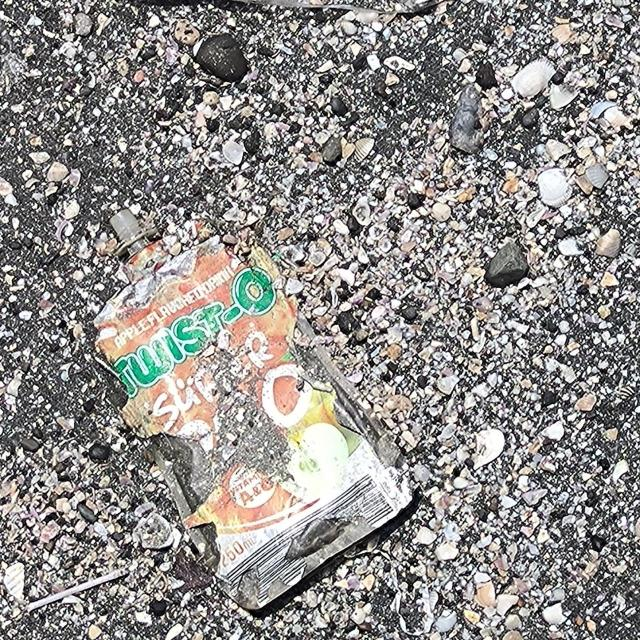plastic_waste: (95, 207, 413, 613)
